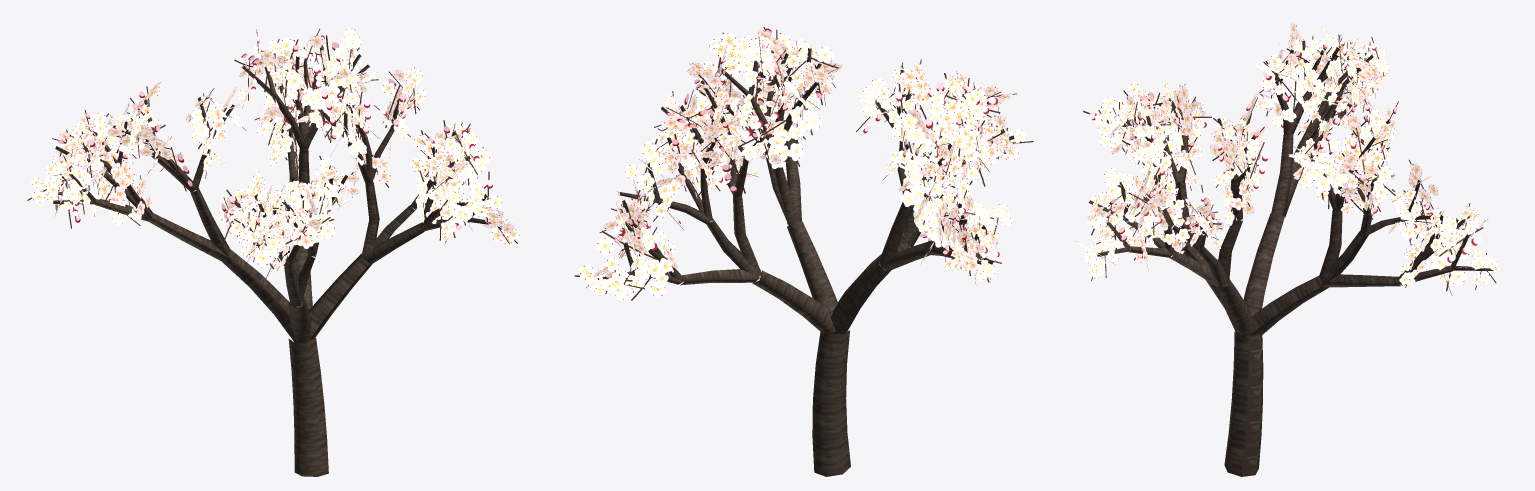
File: apricot.glb
3 renders of one model, left to right at view 1: azimuth 30°, elevation 25°; view 2: azimuth 150°, elevation 25°; view 3: azimuth 270°, elevation 25°, orthographic. The views are drawn at different scales.
Visible parts, largest first — view 1: Blossoms, Branches; view 2: Blossoms, Branches; view 3: Blossoms, Branches.
Part boxes in pixels (x1=…): Blossoms: x1=27, y1=26, x2=520, y2=279; Branches: x1=53, y1=36, x2=501, y2=476; Blossoms: x1=574, y1=27, x2=1033, y2=300; Branches: x1=597, y1=48, x2=1014, y2=476; Blossoms: x1=1075, y1=21, x2=1502, y2=295; Branches: x1=1088, y1=40, x2=1493, y2=476.
Bounding box in the file's own units: 3.66 × 3.72 × 3.85.
Materials: 2 (2 with a texture image).
